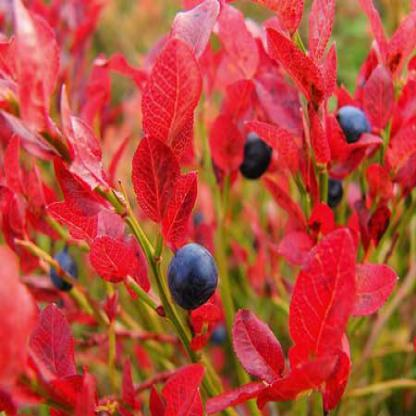Blueberry leaf: (289, 220, 363, 362), (142, 32, 209, 156), (124, 124, 188, 235), (224, 299, 296, 391), (23, 294, 80, 406), (265, 21, 324, 121), (239, 107, 307, 185), (91, 230, 145, 302), (161, 175, 209, 244), (149, 361, 206, 411), (363, 62, 400, 130)
